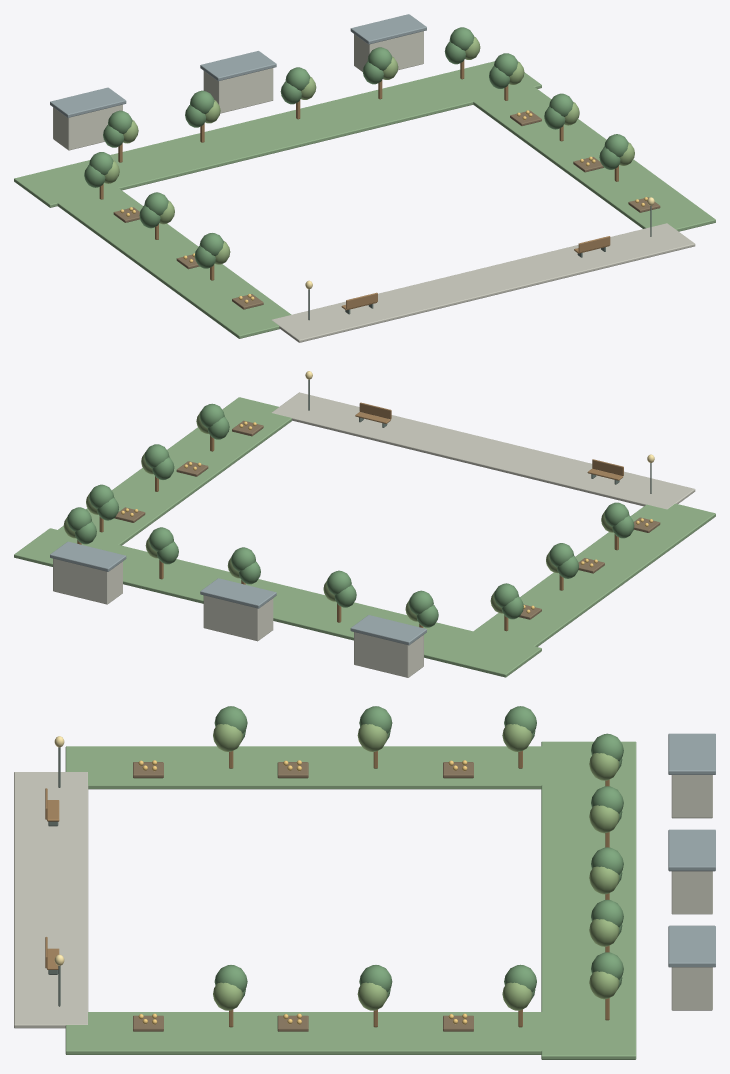
Rendered from exterior.glb.
3 views of the same model, one above another, from view 1: azimuth 30°, elevation 25°; view 2: azimuth 150°, elevation 25°; view 3: azimuth 270°, elevation 25° (orthographic). The views are drawn at different scales.
Parts seen in each view (by area): view 1: north garden, entrance paving, west garden, east garden, distant neighborhood.001, distant neighborhood, distant neighborhood.002, distant roof.001, distant roof.002, distant roof; view 2: north garden, entrance paving, west garden, east garden, distant neighborhood.001, distant neighborhood.002, distant neighborhood, distant roof.001, distant roof, distant roof.002; view 3: north garden, east garden, west garden, entrance paving, distant roof.001, distant roof.002, distant roof, distant neighborhood.001, distant neighborhood.002, distant neighborhood, tree crown.001, tree crown.013 (+20 smaller).
Boxes of the visible parts, x1,y1,x2,y2 form: north garden: [14, 61, 541, 207]; entrance paving: [271, 223, 695, 342]; west garden: [51, 183, 291, 338]; east garden: [467, 81, 715, 231]; distant neighborhood.001: [203, 68, 273, 113]; distant neighborhood: [53, 104, 122, 150]; distant neighborhood.002: [354, 31, 423, 71]; distant roof.001: [200, 51, 276, 81]; distant roof.002: [350, 14, 426, 44]; distant roof: [50, 87, 126, 117]; north garden: [14, 528, 541, 677]; entrance paving: [271, 392, 695, 509]; west garden: [466, 503, 715, 651]; east garden: [58, 397, 291, 545]; distant neighborhood.001: [203, 595, 273, 641]; distant neighborhood.002: [53, 558, 122, 604]; distant neighborhood: [354, 632, 423, 677]; distant roof.001: [200, 578, 276, 608]; distant roof: [350, 615, 426, 645]; distant roof.002: [50, 541, 126, 571]; north garden: [541, 741, 636, 1059]; east garden: [65, 1012, 560, 1054]; west garden: [65, 746, 560, 789]; entrance paving: [14, 772, 88, 1028]; distant roof.001: [668, 829, 715, 871]; distant roof.002: [668, 925, 715, 967]; distant roof: [668, 733, 715, 774]; distant neighborhood.001: [671, 871, 712, 914]; distant neighborhood.002: [671, 967, 712, 1010]; distant neighborhood: [671, 775, 712, 818]; tree crown.001: [502, 724, 532, 751]; tree crown.013: [357, 982, 387, 1010].
Bounding box in the file's own units: 36 × 3.82 × 33.95.
